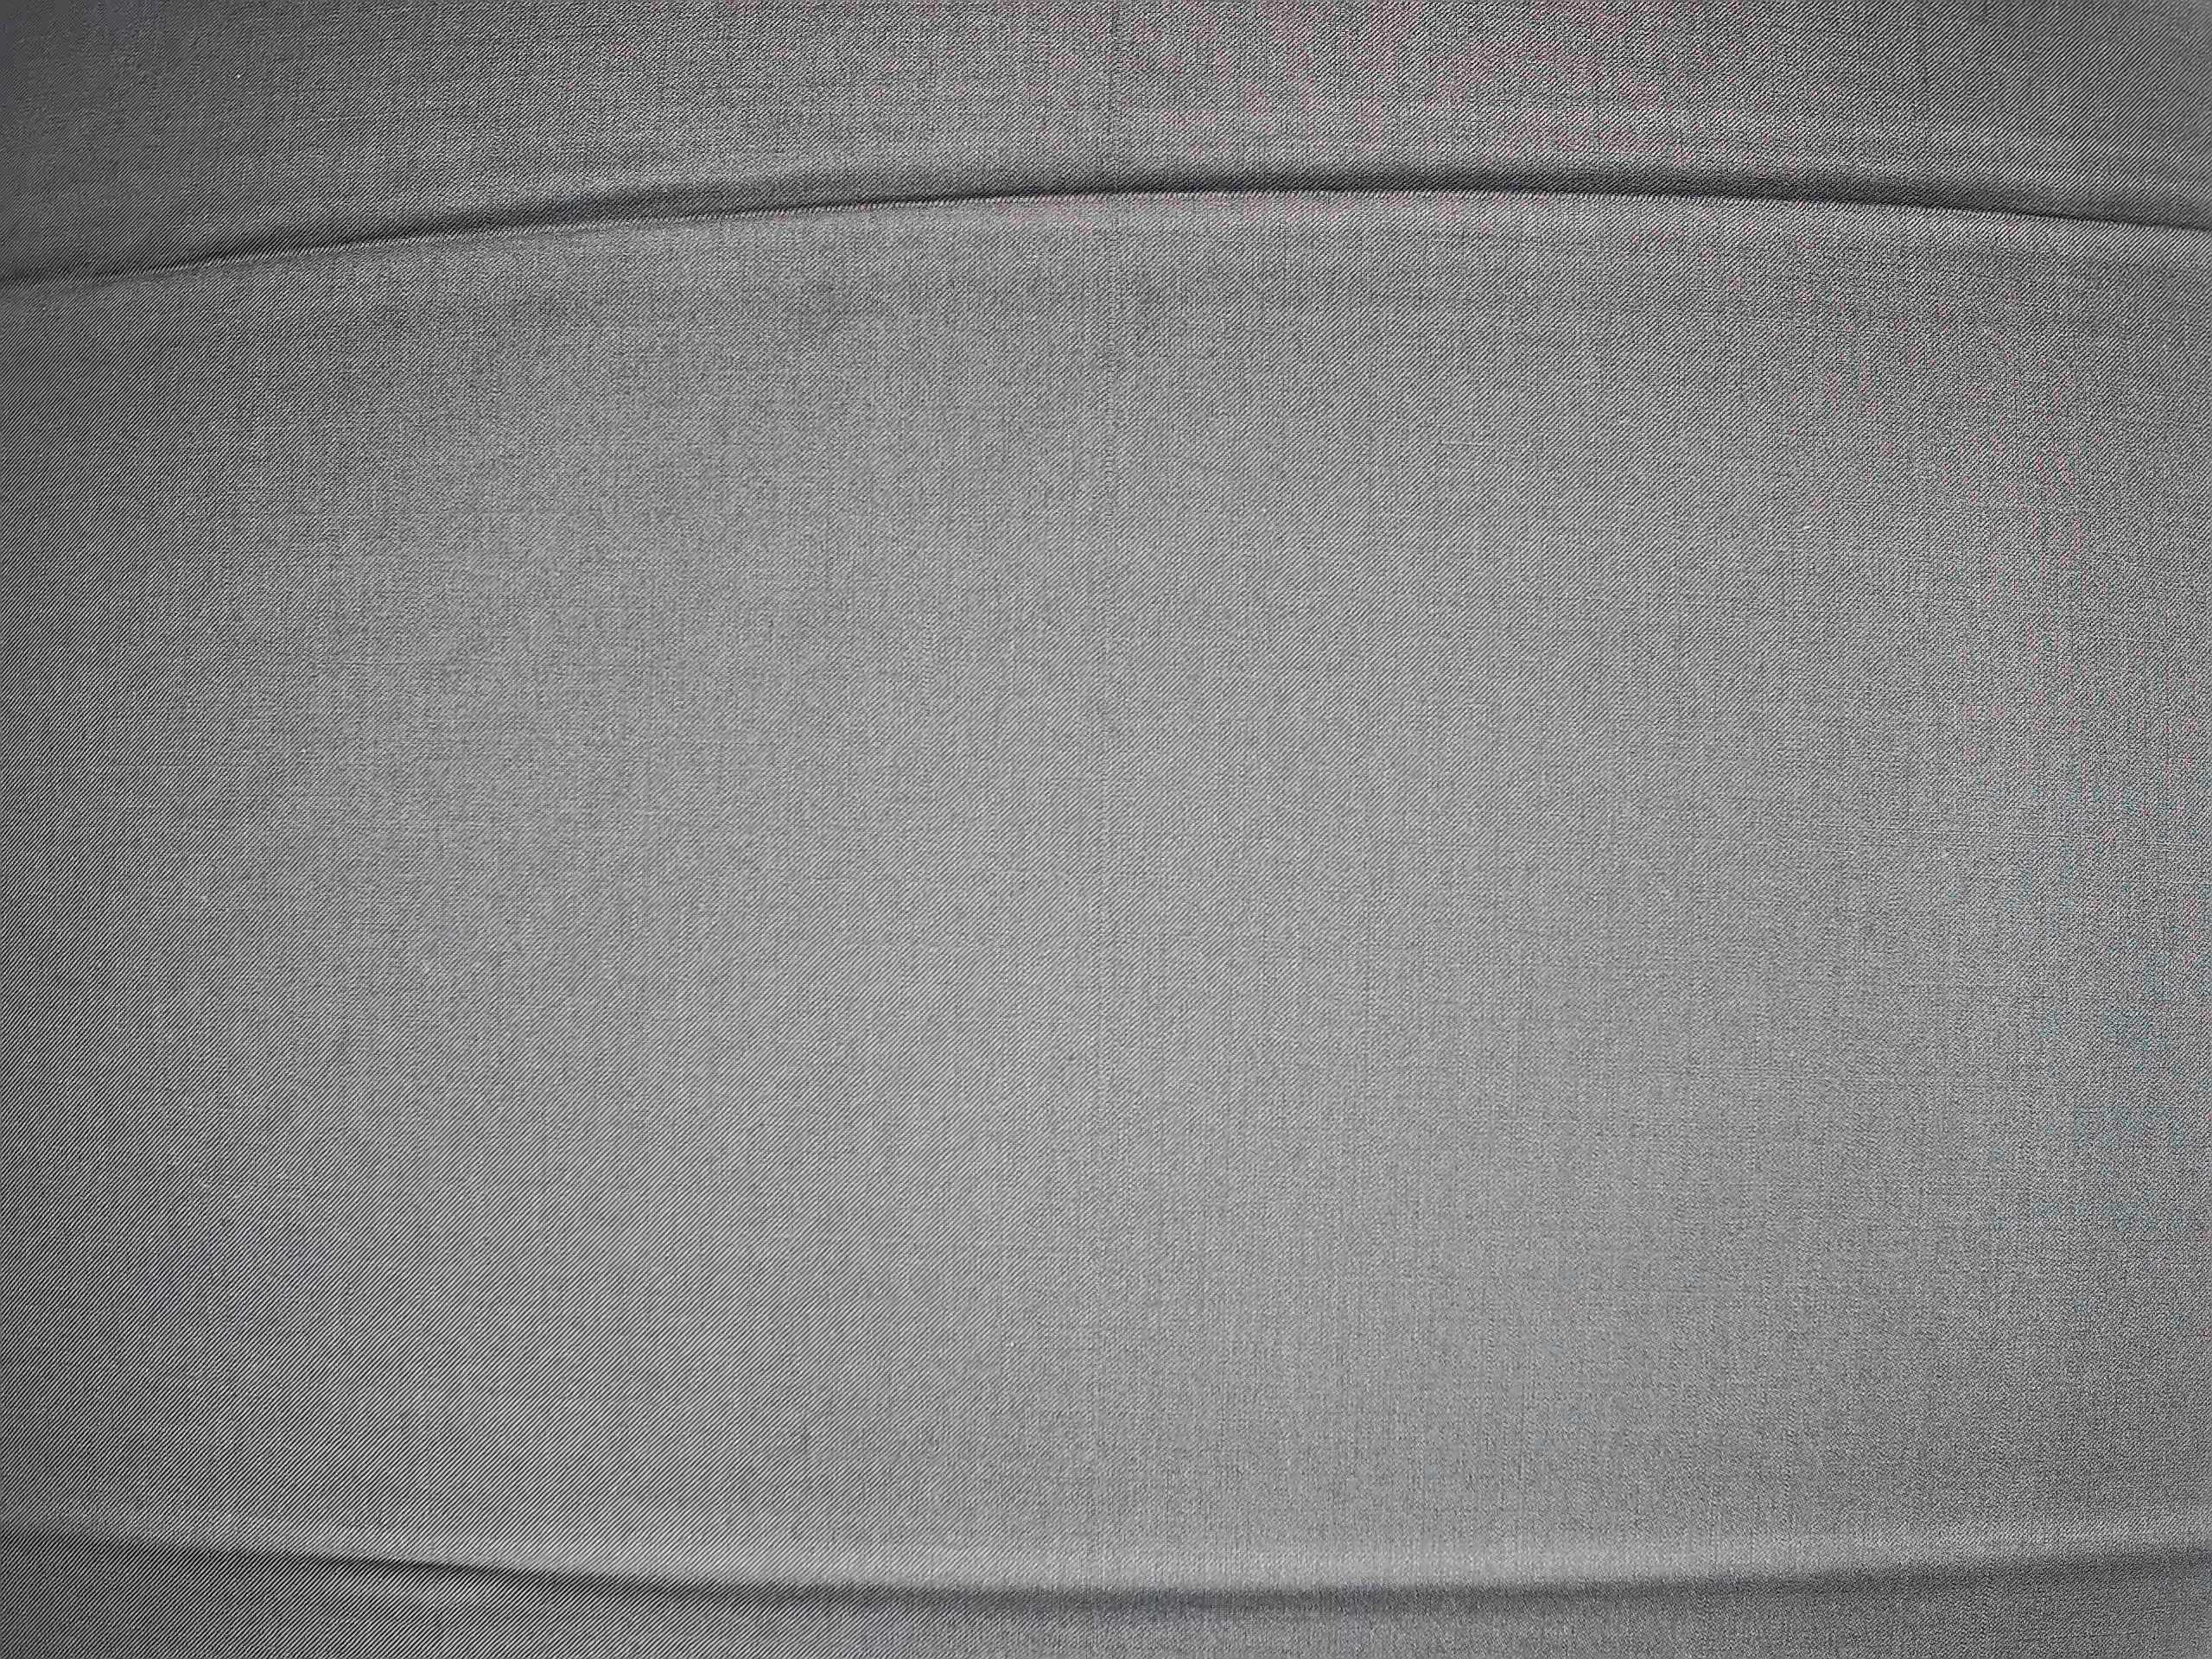lacking-warp: (1097, 2, 1127, 598)
